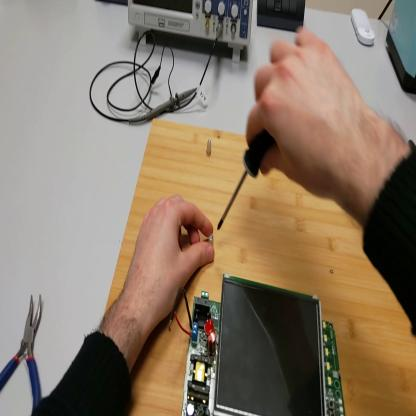hand: (248, 30, 367, 205), (127, 194, 215, 325)
low voltage board: (170, 275, 340, 414)
oscilloscope: (128, 2, 252, 63)
oscilloscope probe tip: (131, 86, 199, 124)
pliers: (1, 293, 45, 414)
screwdriver-: (218, 127, 275, 234)
welder station: (388, 1, 416, 95)
working area: (107, 121, 416, 416)
